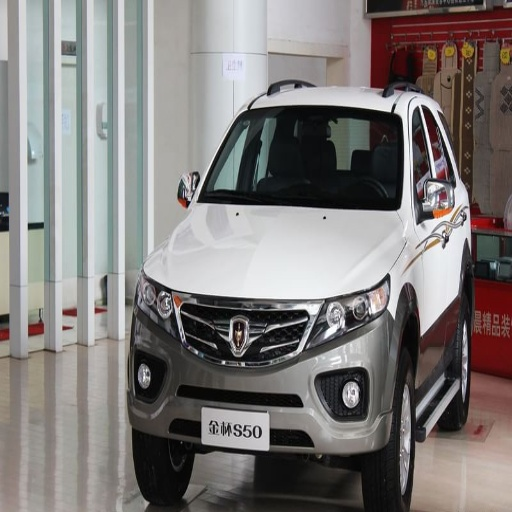front_bumper: (132, 288, 395, 457)
front_glass: (191, 110, 439, 210)
front_left_door: (415, 163, 449, 377)
front_left_light: (309, 280, 389, 345)
front_right_light: (135, 272, 170, 320)
